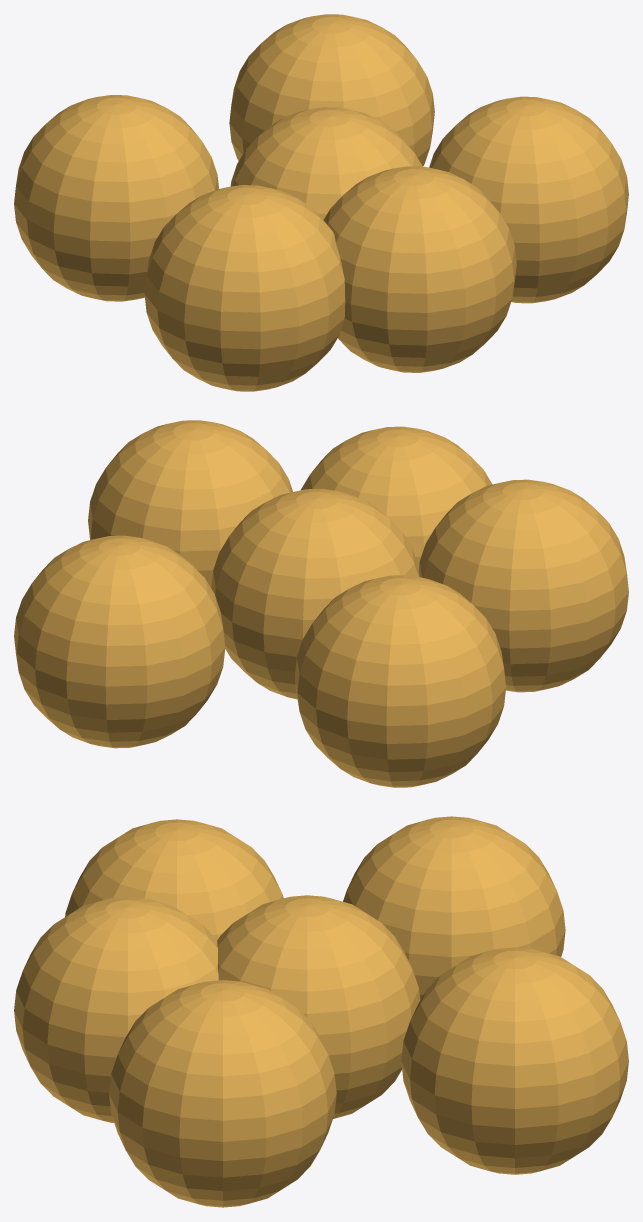
Rendered from Ketumbar.fbx.
3 renders of one model, top to bottom at view 1: azimuth 30°, elevation 25°; view 2: azimuth 150°, elevation 25°; view 3: azimuth 270°, elevation 25°, orthographic. The views are drawn at different scales.
Visible parts, largest first — view 1: Ketumbar.004, Ketumbar.005, Ketumbar.003, Ketumbar.001, Ketumbar.002, Ketumbar; view 2: Ketumbar.002, Ketumbar.003, Ketumbar.004, Ketumbar, Ketumbar.001, Ketumbar.005; view 3: Ketumbar.001, Ketumbar.002, Ketumbar.005, Ketumbar, Ketumbar.003, Ketumbar.004.
Part boxes in pixels (<box>): Ketumbar.004: <box>144,185,345,391</box>; Ketumbar.005: <box>323,166,516,372</box>; Ketumbar.003: <box>14,95,218,301</box>; Ketumbar.001: <box>429,96,628,303</box>; Ketumbar.002: <box>229,14,434,165</box>; Ketumbar: <box>230,107,422,219</box>; Ketumbar.002: <box>14,535,225,748</box>; Ketumbar.003: <box>295,575,505,787</box>; Ketumbar.004: <box>418,479,628,692</box>; Ketumbar: <box>211,488,419,699</box>; Ketumbar.001: <box>88,420,292,587</box>; Ketumbar.005: <box>301,426,492,569</box>; Ketumbar.001: <box>109,980,336,1207</box>; Ketumbar.002: <box>401,947,628,1174</box>; Ketumbar.005: <box>14,896,218,1122</box>; Ketumbar: <box>217,895,420,1118</box>; Ketumbar.003: <box>343,816,565,999</box>; Ketumbar.004: <box>65,819,283,940</box>.
Size of the model in its own units: 0.8346 by 0.309 by 0.8346.
